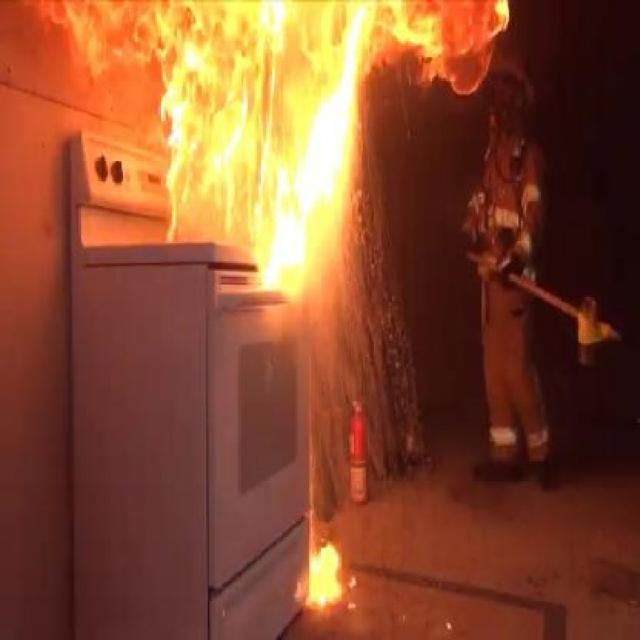fire: (46, 3, 509, 308), (308, 526, 348, 625)
